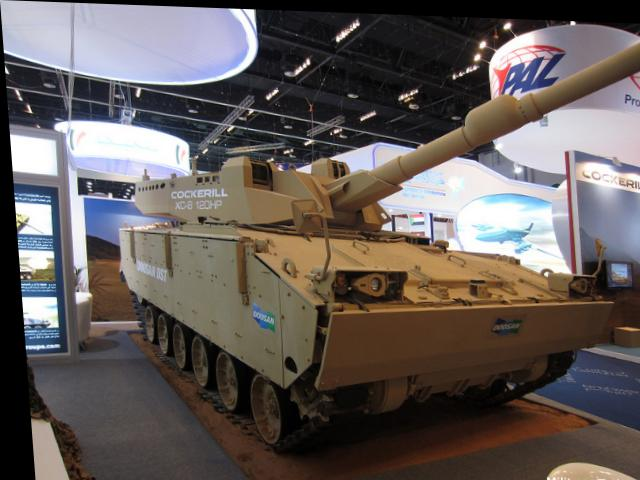tank: (79, 145, 627, 431)
